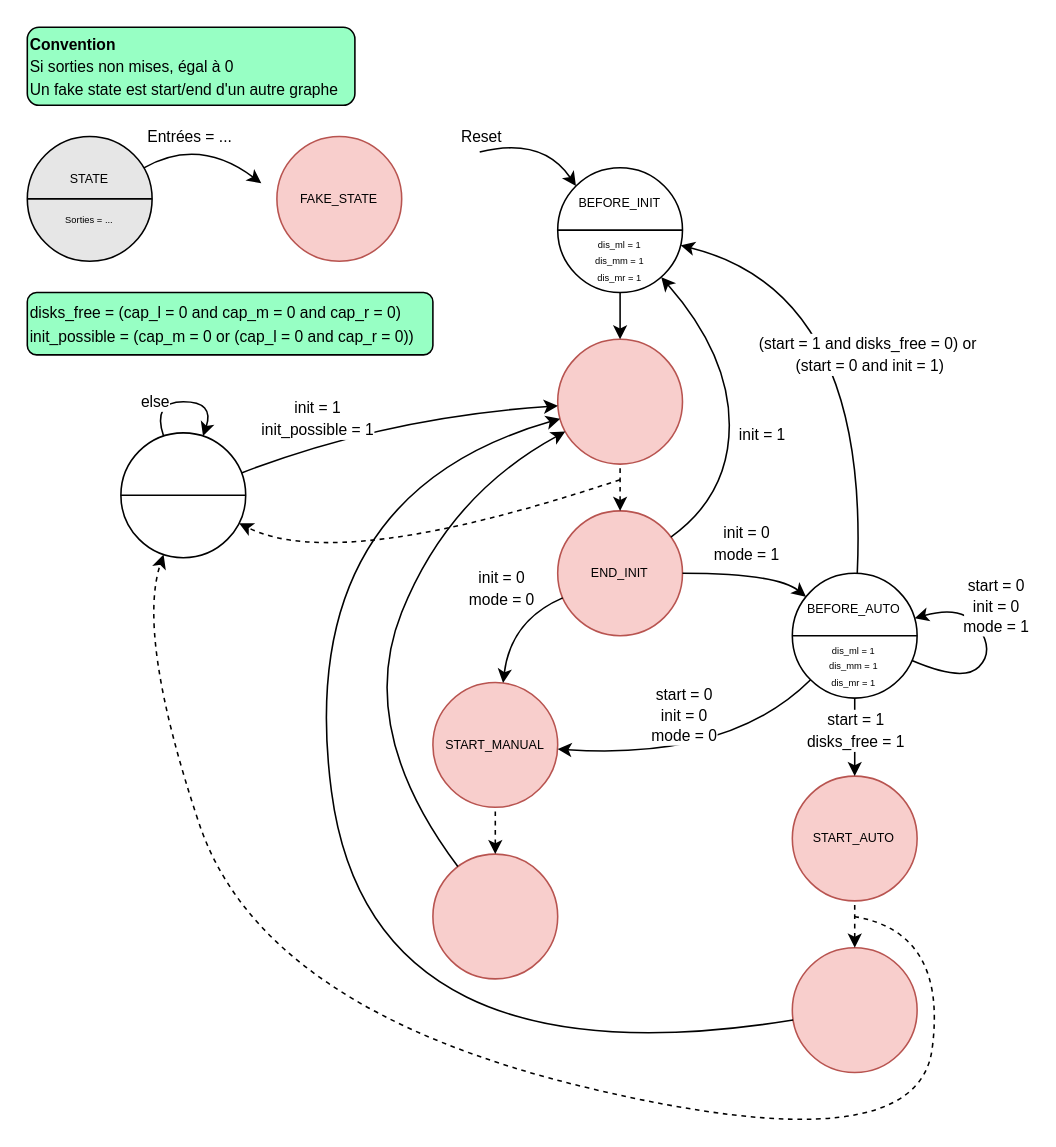
Image size: 1056x1147. Some labels were removed from this diagram. The centre of each missing label's shape, as x and y in pixels:
"END_AUTO" belongs at (x=854, y=1009).
"END_MANUAL" belongs at (x=494, y=916).
"ERR dis_ml = 1 dis_mm = 1 dis_mr = 1 err = 1" belongs at (x=182, y=494).
"START_INIT" belongs at (x=619, y=401).
